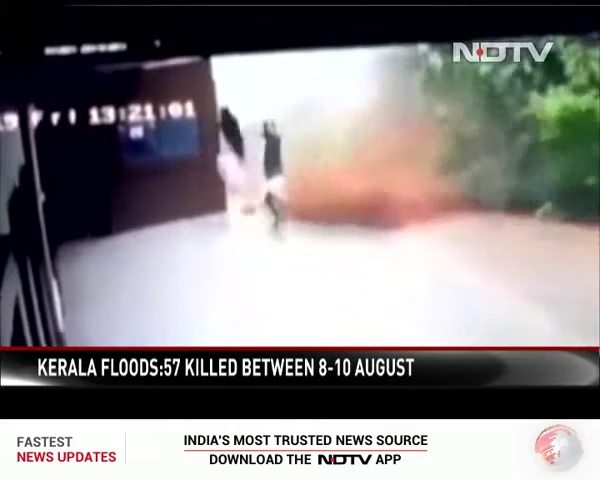person: (259, 118, 286, 241)
